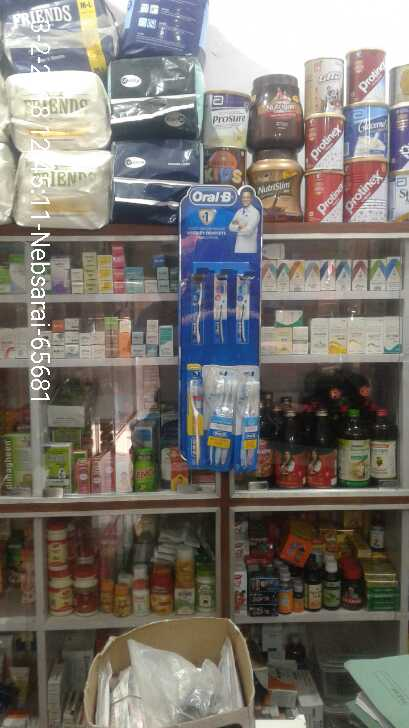oralb: (203, 367, 233, 470), (231, 367, 261, 470), (186, 362, 201, 466)
